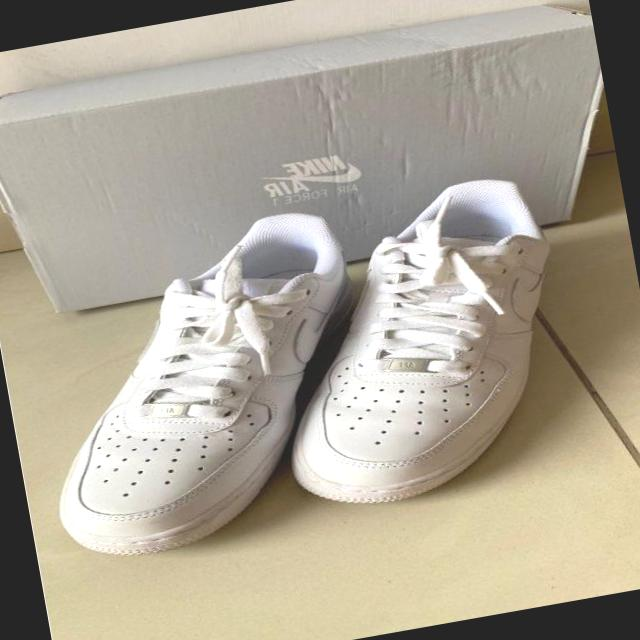nike_original_airforce: (9, 202, 393, 570), (250, 173, 589, 518)
